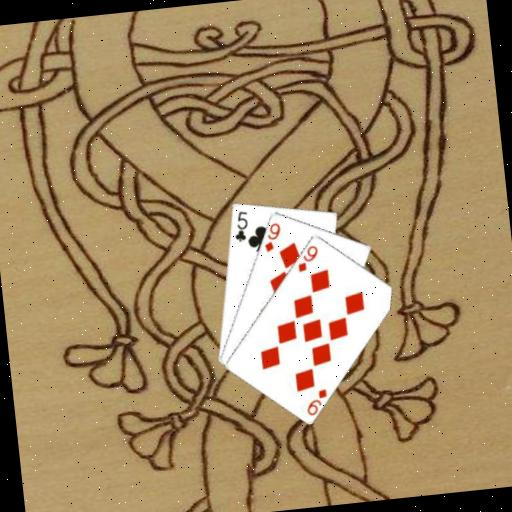5C: (229, 207, 251, 244)
9D: (302, 385, 331, 418), (293, 242, 321, 274), (259, 219, 284, 254)
